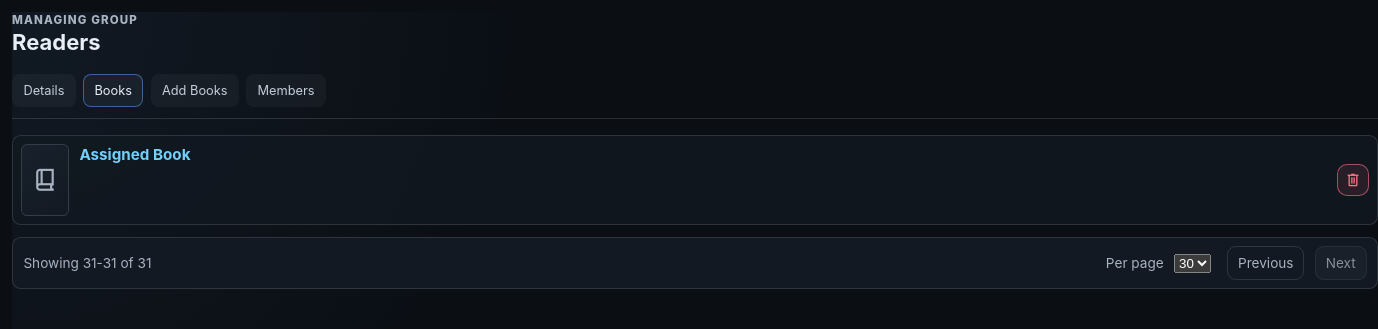
Test: GroupEditOrchestrator Book assignments › recovers assigned Books to the last valid URL page after final-page removal
Click the button named "Remove Assigned Book from group" at (1353, 180), box [1337, 164, 1369, 196]
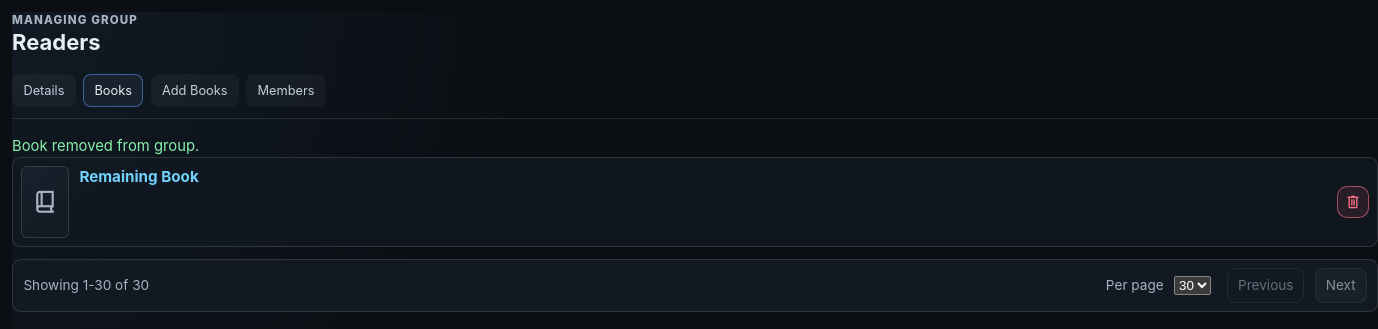
Check: the text "Remaining Book" is shown, box [79, 167, 199, 186]
